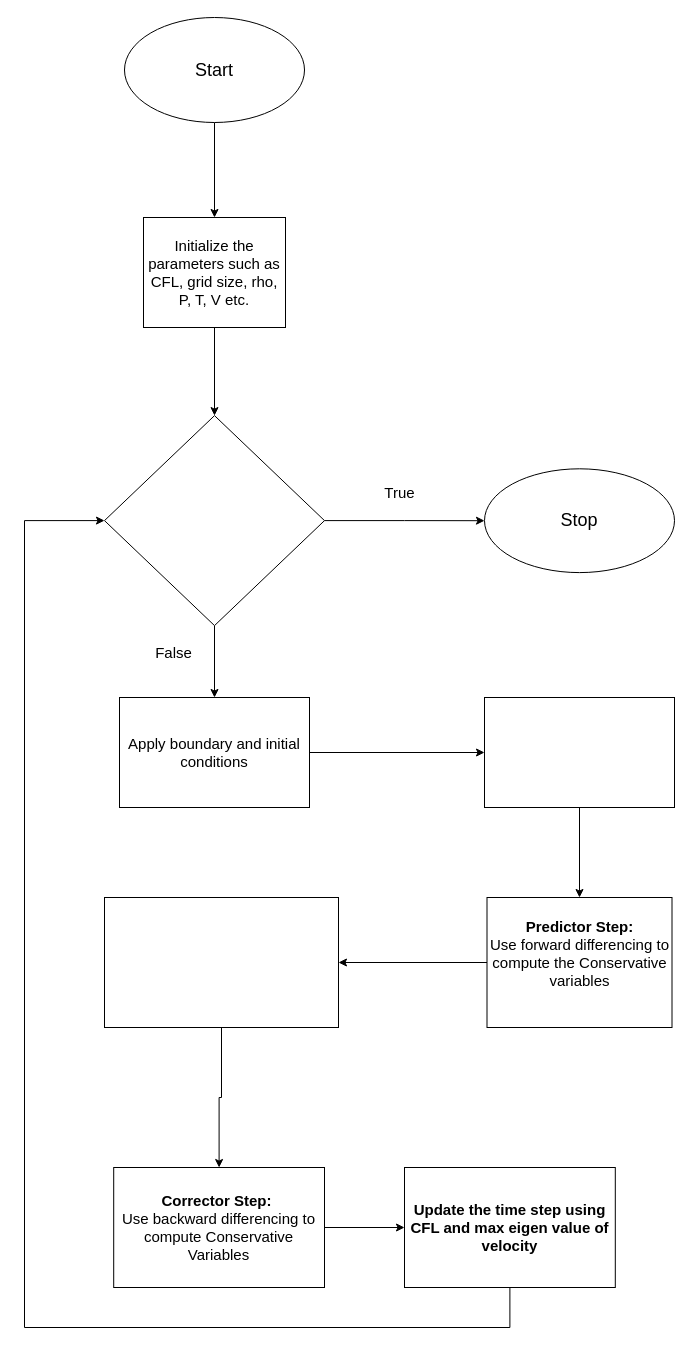
Some shapes in this 692 by 1353 pixel diagram are drawn without their labels. Each missing label, with the box of its shape:
Compute the Flux and source terms using conservative variables: (484, 696, 674, 808)
Recalculate Flux and Source term using new conservative variables: (104, 896, 338, 1028)
time_now == desired time: (104, 415, 324, 626)
